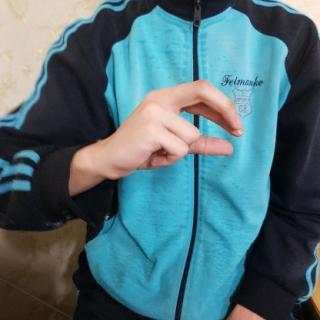DHELL: (100, 78, 251, 176)
